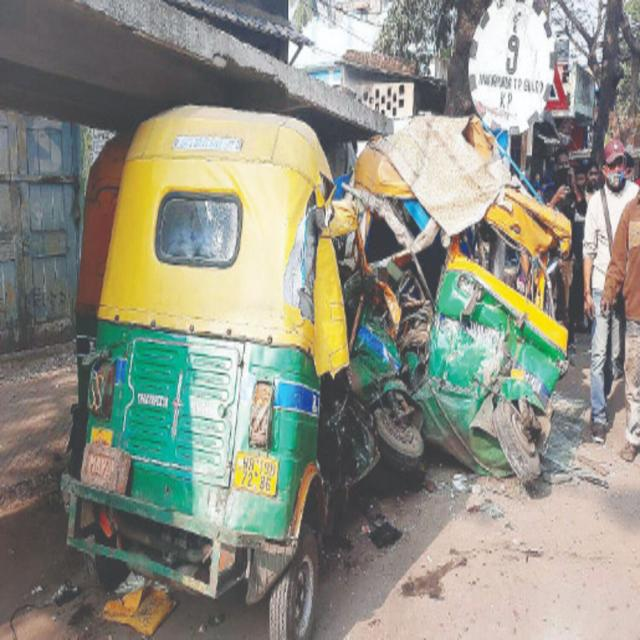accident: (64, 106, 378, 636), (318, 117, 571, 483)
